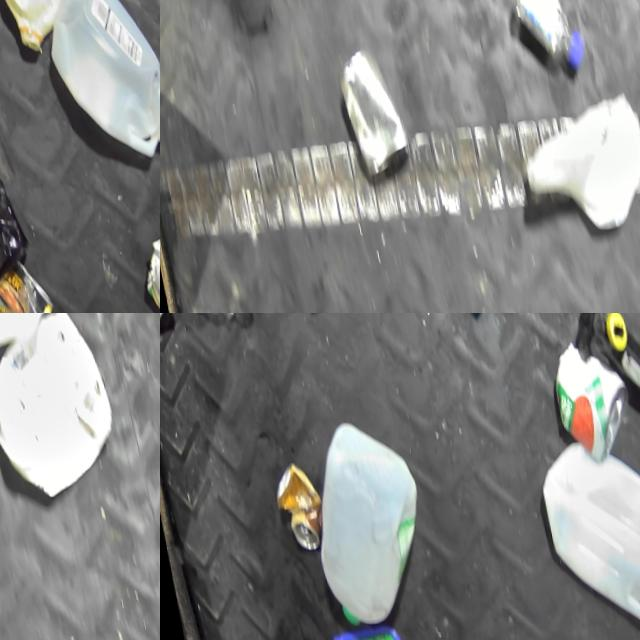can: (325, 41, 416, 195), (537, 326, 630, 455), (260, 440, 327, 553), (0, 245, 60, 313)
milk_jug: (290, 406, 439, 628), (0, 313, 125, 523), (526, 425, 640, 640), (503, 83, 640, 249), (34, 0, 160, 164), (501, 612, 640, 640), (0, 313, 64, 358)
